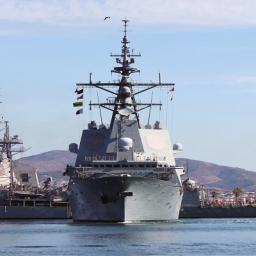Fragata: (66, 15, 183, 227)
